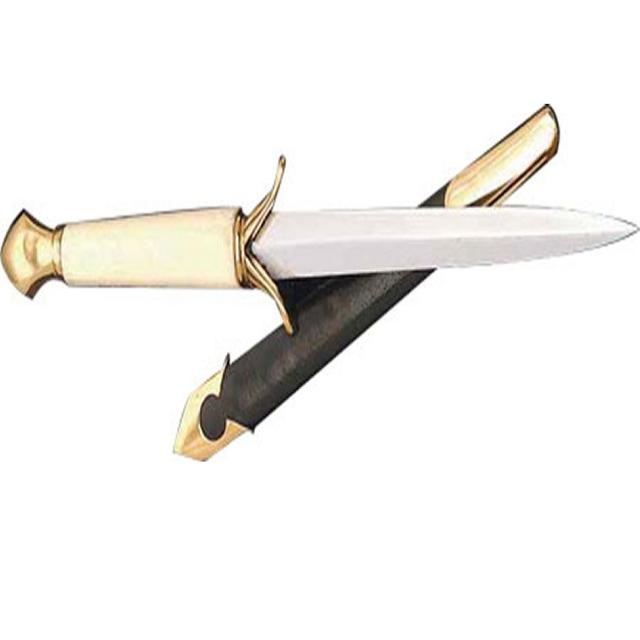knife: (4, 151, 640, 328)
